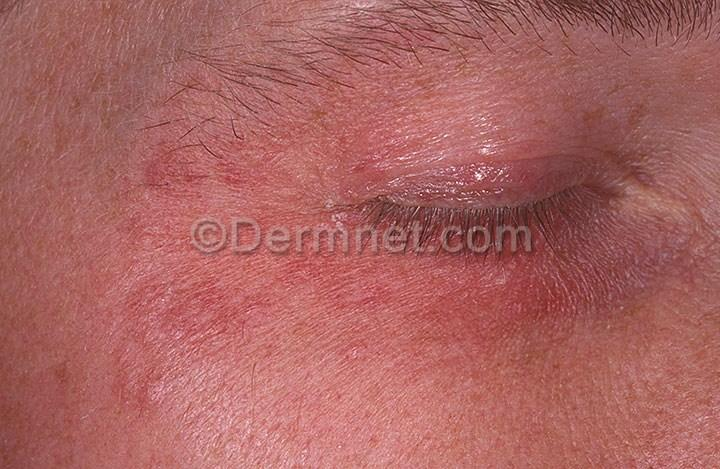Dry-Skin: (529, 246, 720, 469), (366, 91, 609, 195), (627, 126, 720, 251)
